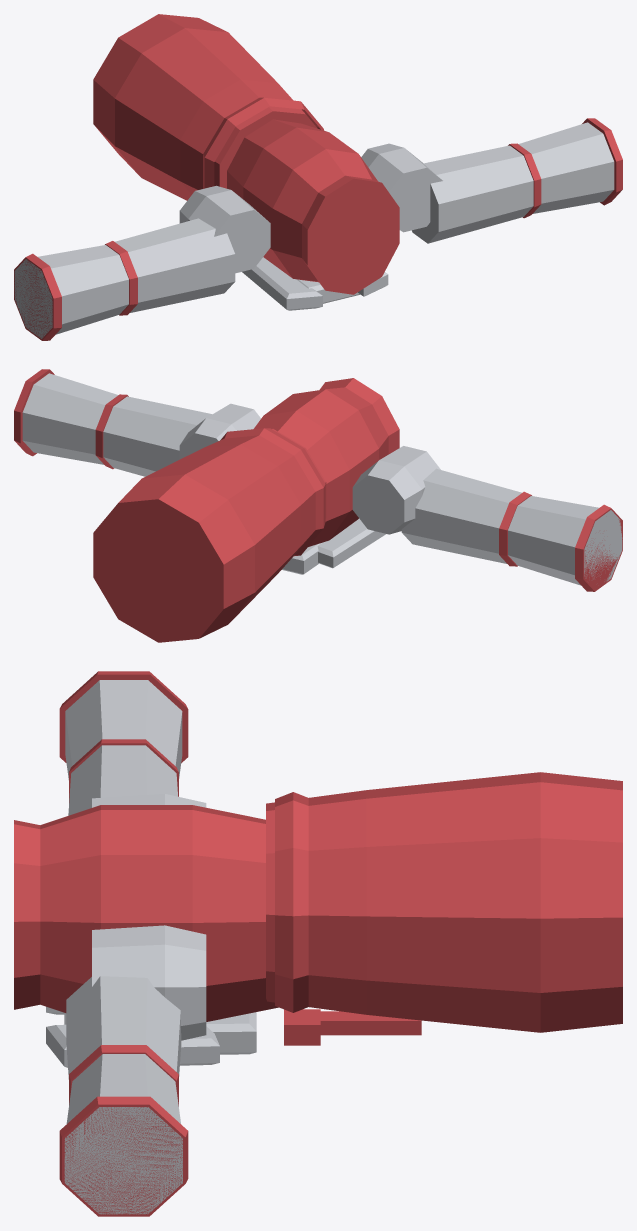
File: armor_robe.glb
3 views of the same model, one above another, from view 1: azimuth 30°, elevation 25°; view 2: azimuth 150°, elevation 25°; view 3: azimuth 270°, elevation 25° (orthographic). The views are drawn at different scales.
Parts seen in each view (by area): view 1: Abdomen, Torso, UpperArmR, UpperArmL, LowerArmR, LowerArmL; view 2: Abdomen, Torso, UpperArmR, LowerArmR, UpperArmL, LowerArmL; view 3: Abdomen, Torso, LowerArmL, UpperArmL, LowerArmR, UpperArmR.
Part boxes in pixels (bbox=[...]): Abdomen: bbox=[93, 14, 324, 200]; Torso: bbox=[227, 119, 399, 310]; UpperArmR: bbox=[115, 185, 270, 313]; UpperArmL: bbox=[361, 143, 533, 243]; LowerArmR: bbox=[14, 241, 137, 340]; LowerArmL: bbox=[508, 118, 622, 218]; Abdomen: bbox=[93, 428, 326, 642]; Torso: bbox=[253, 378, 399, 574]; UpperArmR: bbox=[352, 446, 521, 563]; LowerArmR: bbox=[499, 491, 622, 591]; UpperArmL: bbox=[103, 396, 260, 476]; LowerArmL: bbox=[14, 369, 128, 469]; Abdomen: bbox=[266, 772, 622, 1045]; Torso: bbox=[14, 805, 278, 1067]; LowerArmL: bbox=[59, 1045, 188, 1216]; UpperArmL: bbox=[66, 925, 206, 1079]; LowerArmR: bbox=[59, 671, 188, 802]; UpperArmR: bbox=[68, 745, 206, 815].
Bounding box in the file's own units: 2.24 × 0.612 × 1.33.
